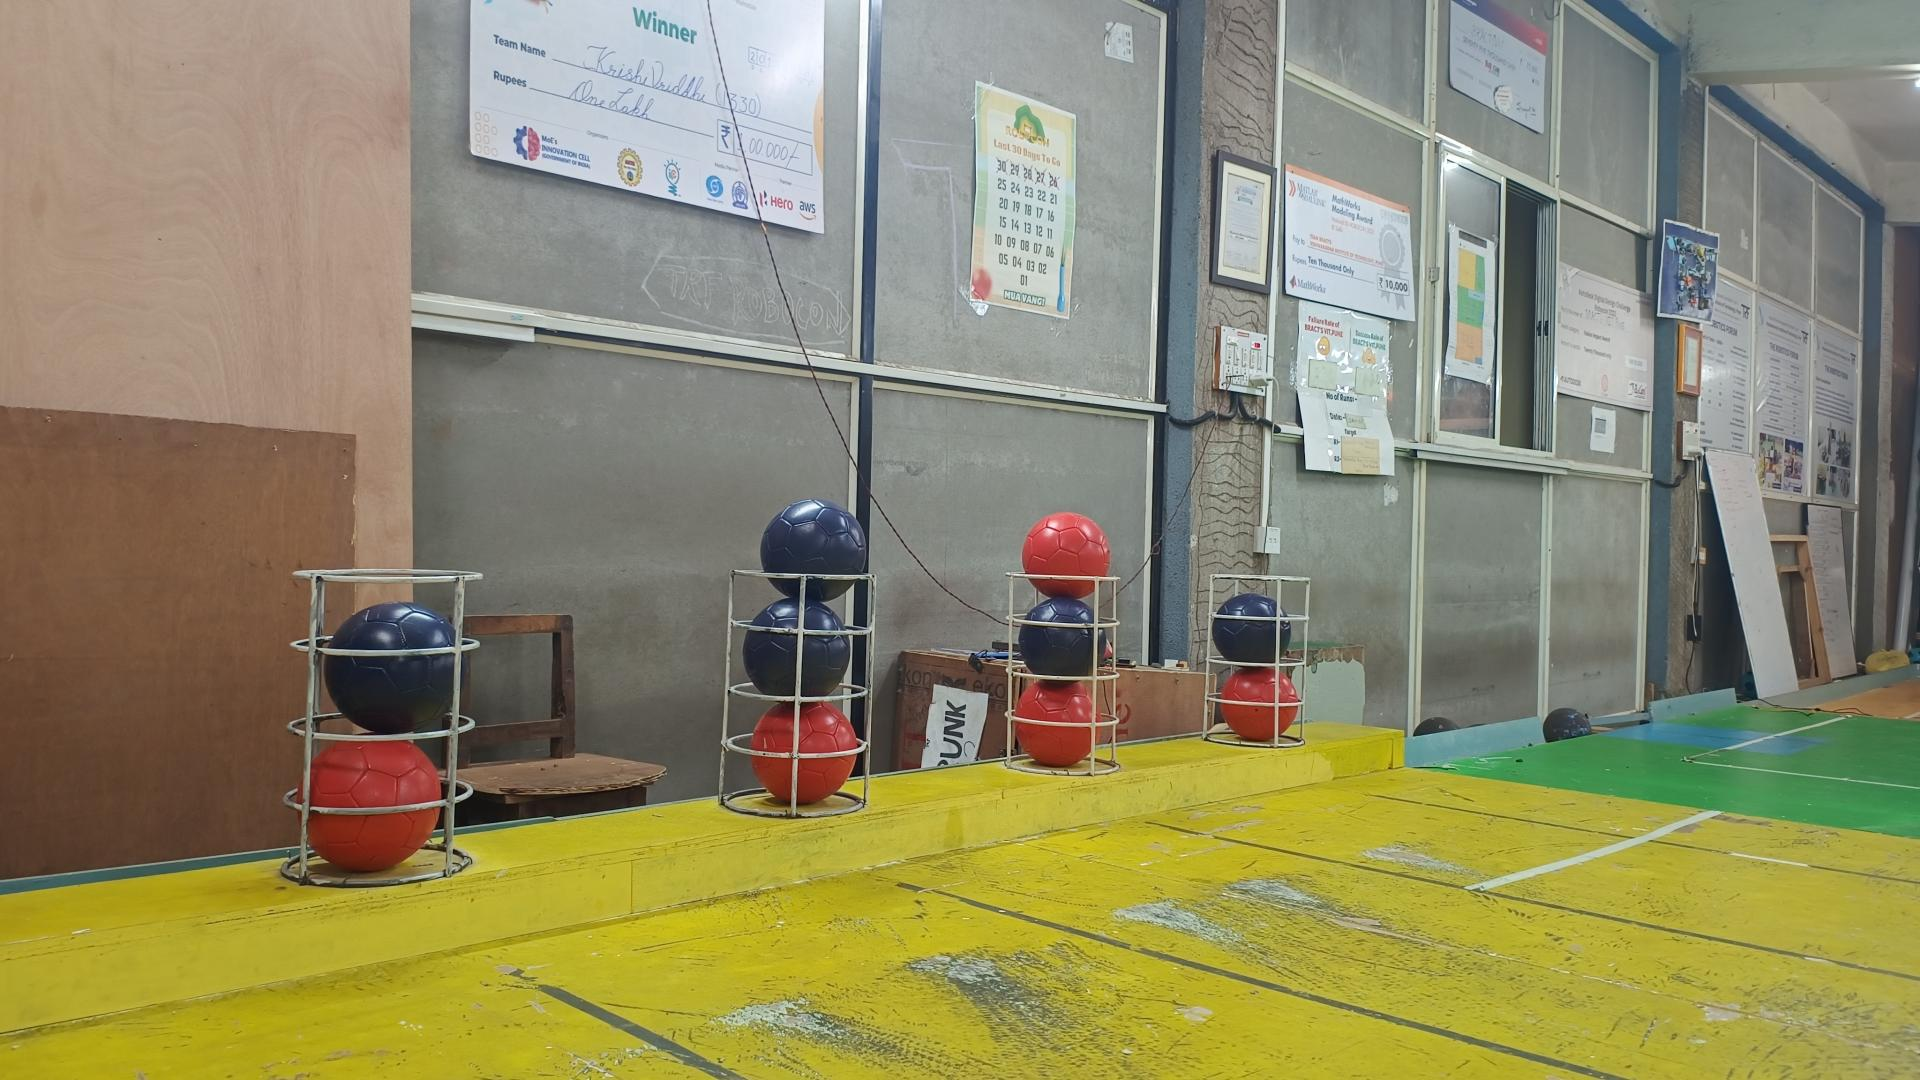dhoka: (324, 601, 455, 733), (744, 599, 853, 700), (760, 502, 868, 604), (1017, 596, 1106, 678), (1212, 592, 1291, 663)
laale: (305, 741, 440, 872), (750, 700, 860, 804), (1021, 512, 1112, 599), (1014, 679, 1097, 766), (1220, 667, 1298, 742)
